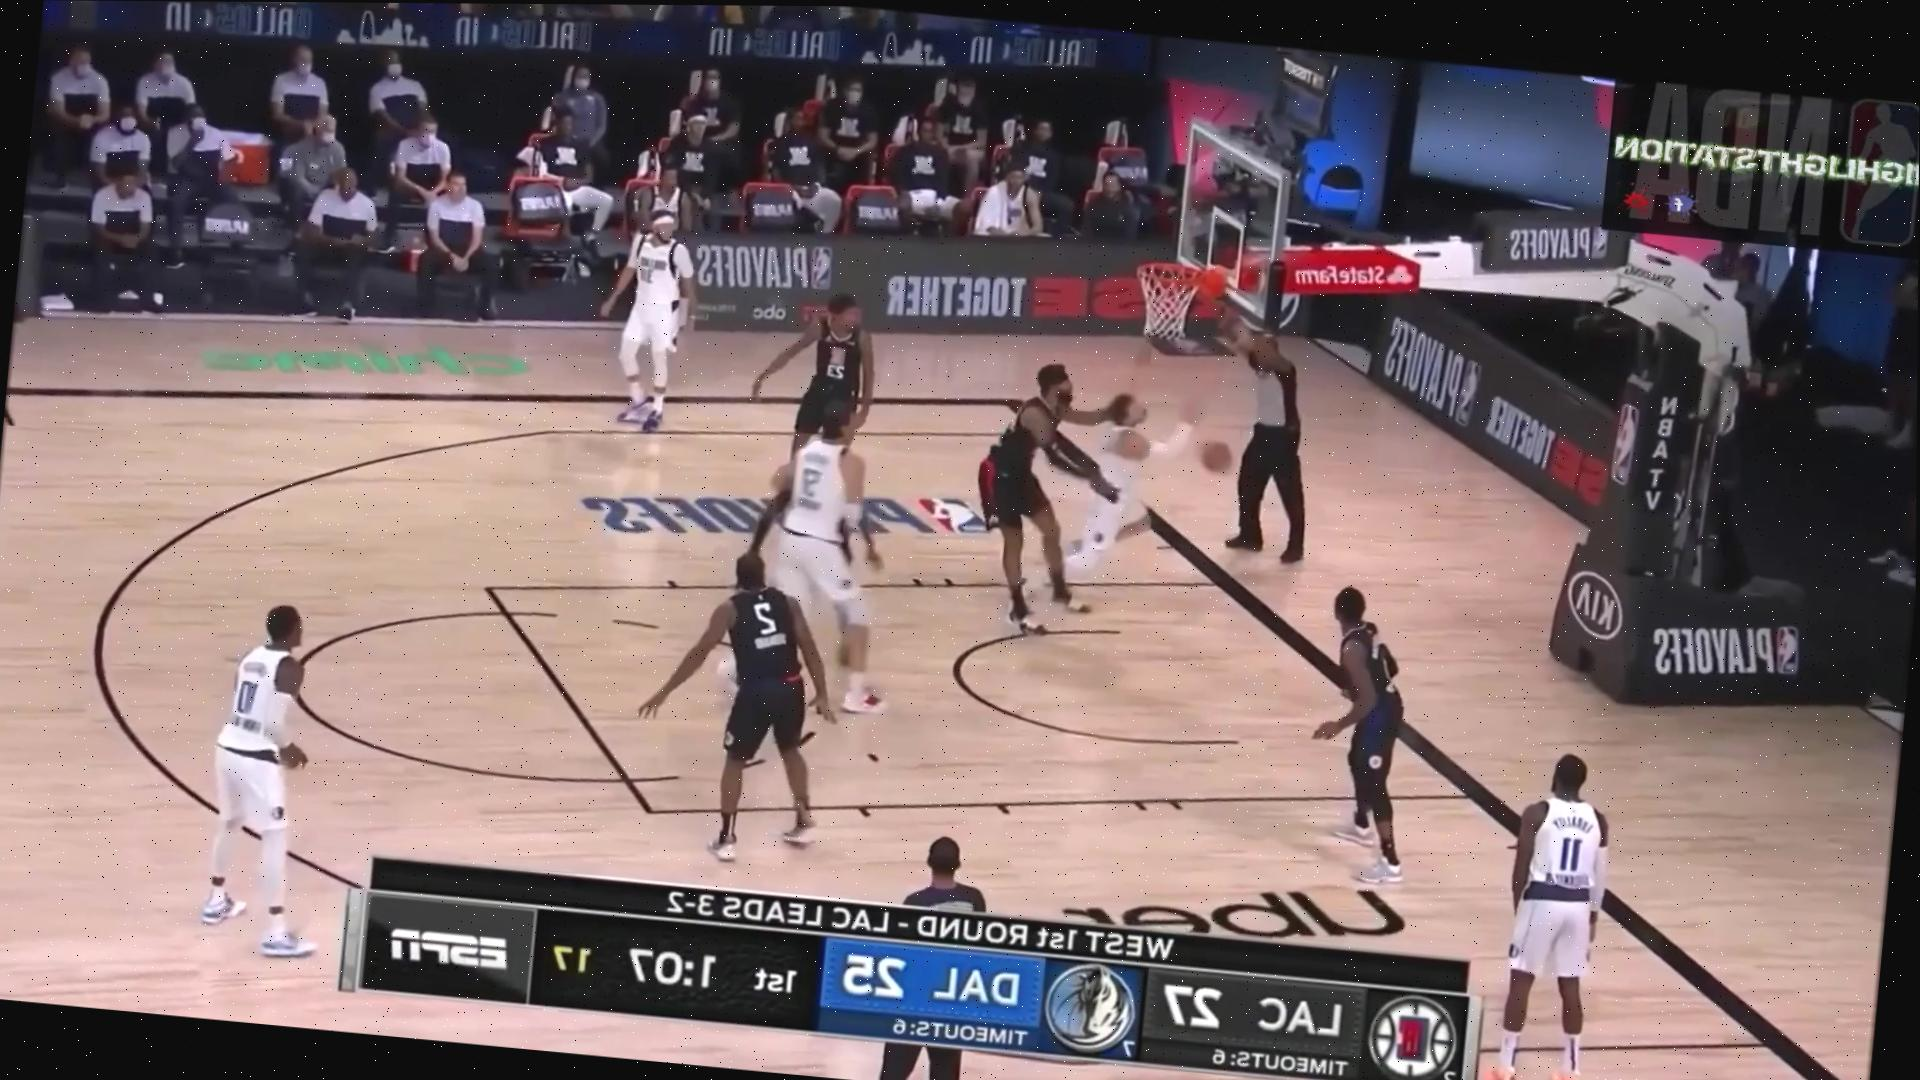foul: (959, 357, 1179, 638)
